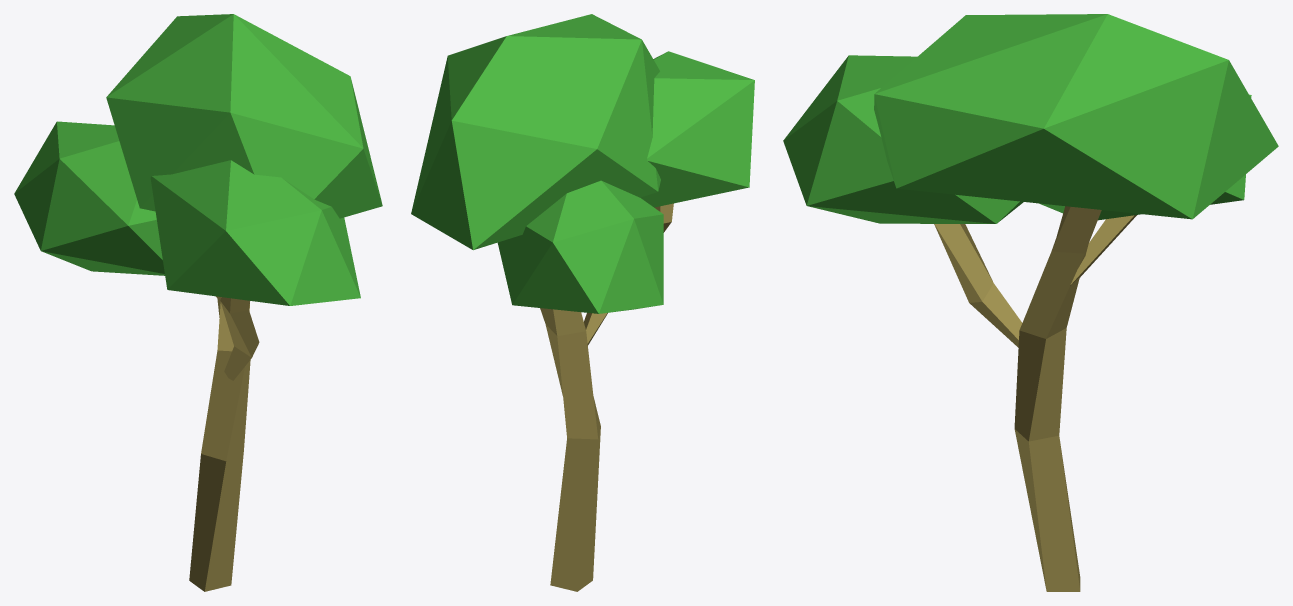
The model's file is MapleTree_1.fbx.
3 views of the same model, side by side, from view 1: azimuth 30°, elevation 25°; view 2: azimuth 150°, elevation 25°; view 3: azimuth 270°, elevation 25° (orthographic). The views are drawn at different scales.
Parts seen in each view (by area): view 1: Leaves.002, Leaves, Leaves.001, Trunk, Trunk.002; view 2: Leaves.002, Leaves.001, Leaves, Trunk, Trunk.002; view 3: Leaves.002, Leaves, Trunk, Trunk.002, Trunk.001, Leaves.001.
Boxes of the visible parts, box(x1,y1,x2,y2) form: Leaves.002: box(106, 14, 382, 218); Leaves: box(150, 160, 360, 305); Leaves.001: box(14, 121, 164, 275); Trunk: box(189, 297, 250, 591); Trunk.002: box(220, 297, 259, 380); Leaves.002: box(411, 14, 660, 250); Leaves.001: box(497, 180, 663, 313); Leaves: box(640, 51, 754, 207); Trunk: box(540, 308, 600, 591); Trunk.002: box(584, 203, 673, 345); Leaves.002: box(874, 14, 1278, 219); Leaves: box(783, 55, 1023, 223); Trunk: box(1014, 206, 1101, 591); Trunk.002: box(934, 224, 1022, 347); Trunk.001: box(1070, 215, 1136, 285); Leaves.001: box(1039, 94, 1251, 220).
Size of the model in its own units: 183 by 364 by 275.
